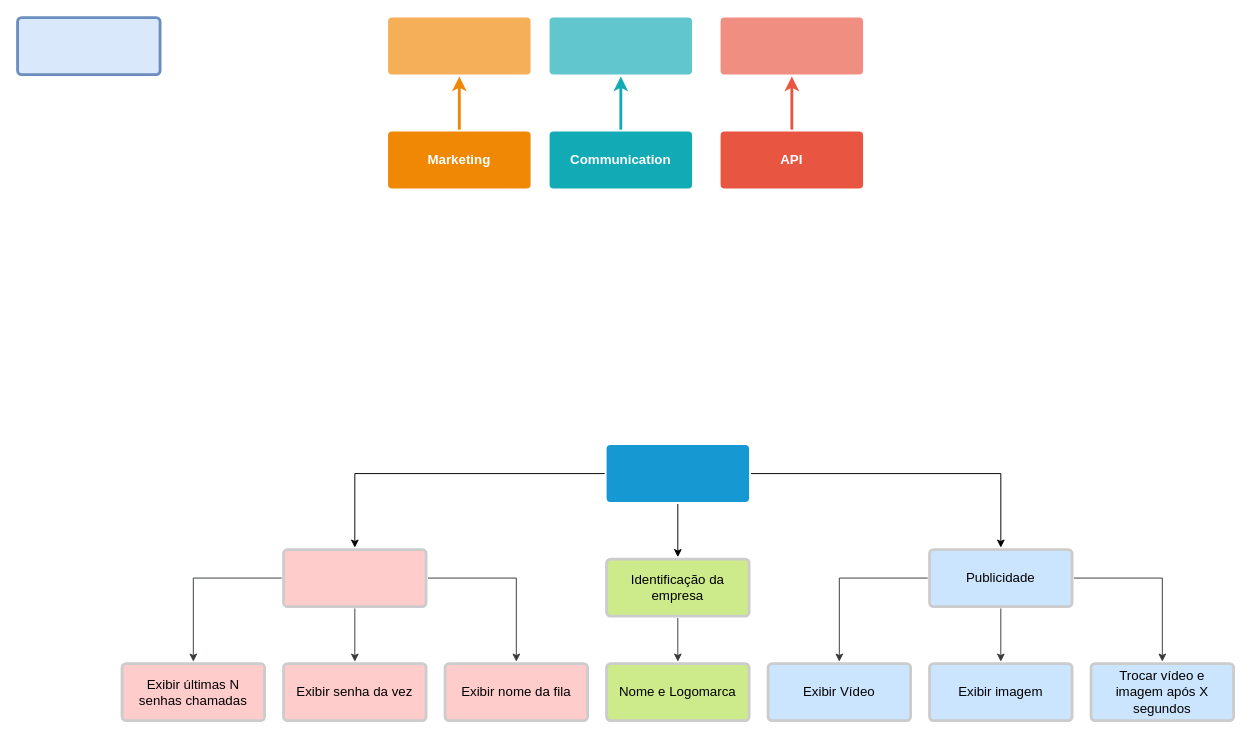
Image size: 1251x738. Some labels were removed from this diagram. Each missing label, with the centre of its shape:
"FastQueue - Funcionalidades" goes at (88,46).
"Gestão da fila" goes at (354,578).
"Instruments" goes at (459,45).
"Layout" goes at (791,45).
"Painel para exibição" goes at (677,473).
"Sponsoring" goes at (620,45).
